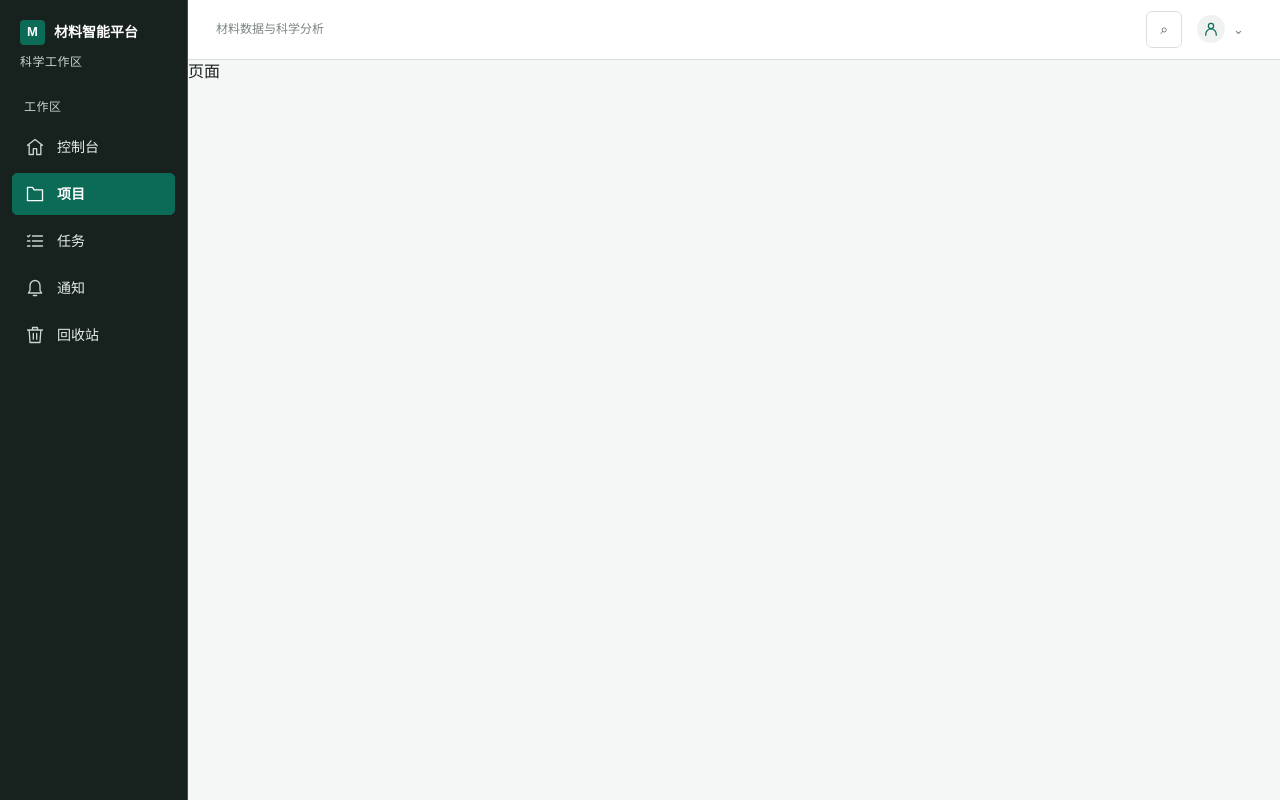
ends a stalled search after ten seconds, retries and ignores the late first response
The width and height of the screenshot is (1280, 800).
Click the button named "搜索科学工作". click: (1164, 29)
box: [1146, 11, 1182, 48]
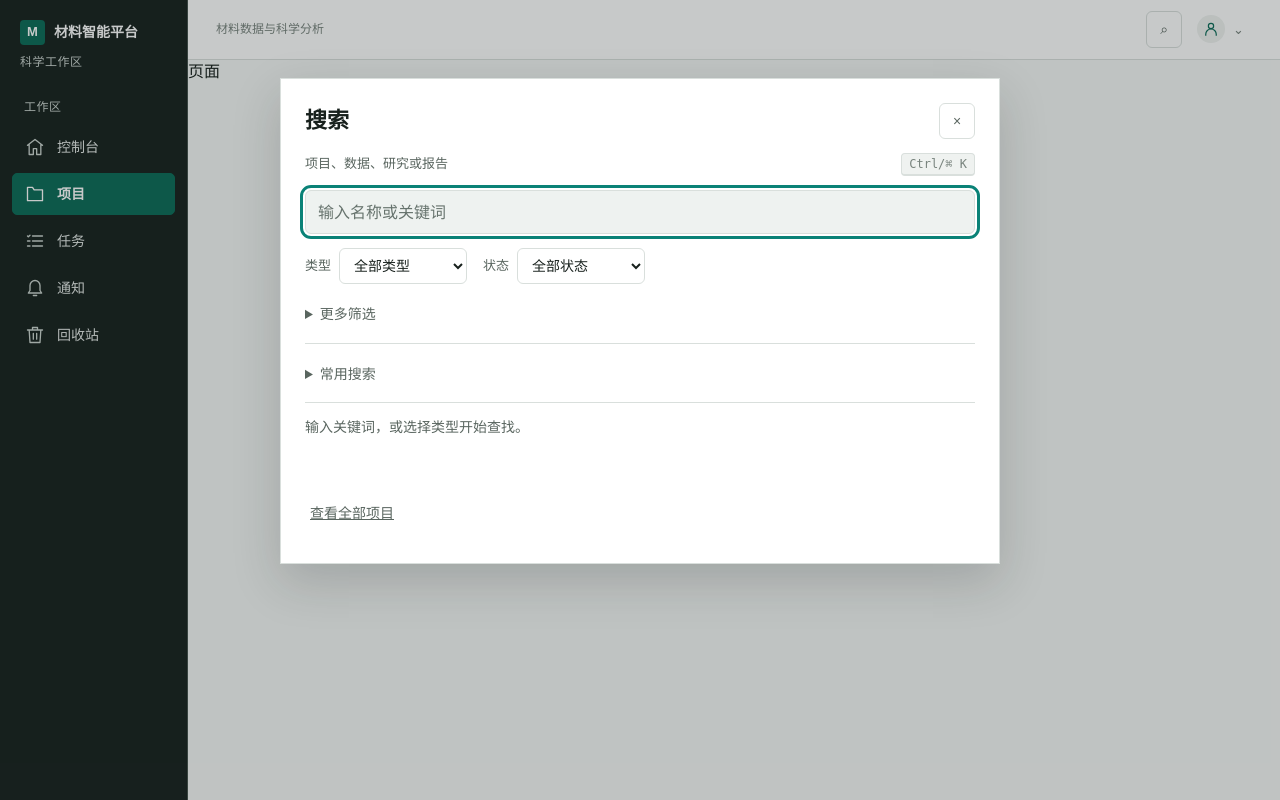
Type "材料" into the field labelled "项目、数据、研究或报告". click: (640, 212)
box: [305, 190, 975, 234]
Wait 10180 ms
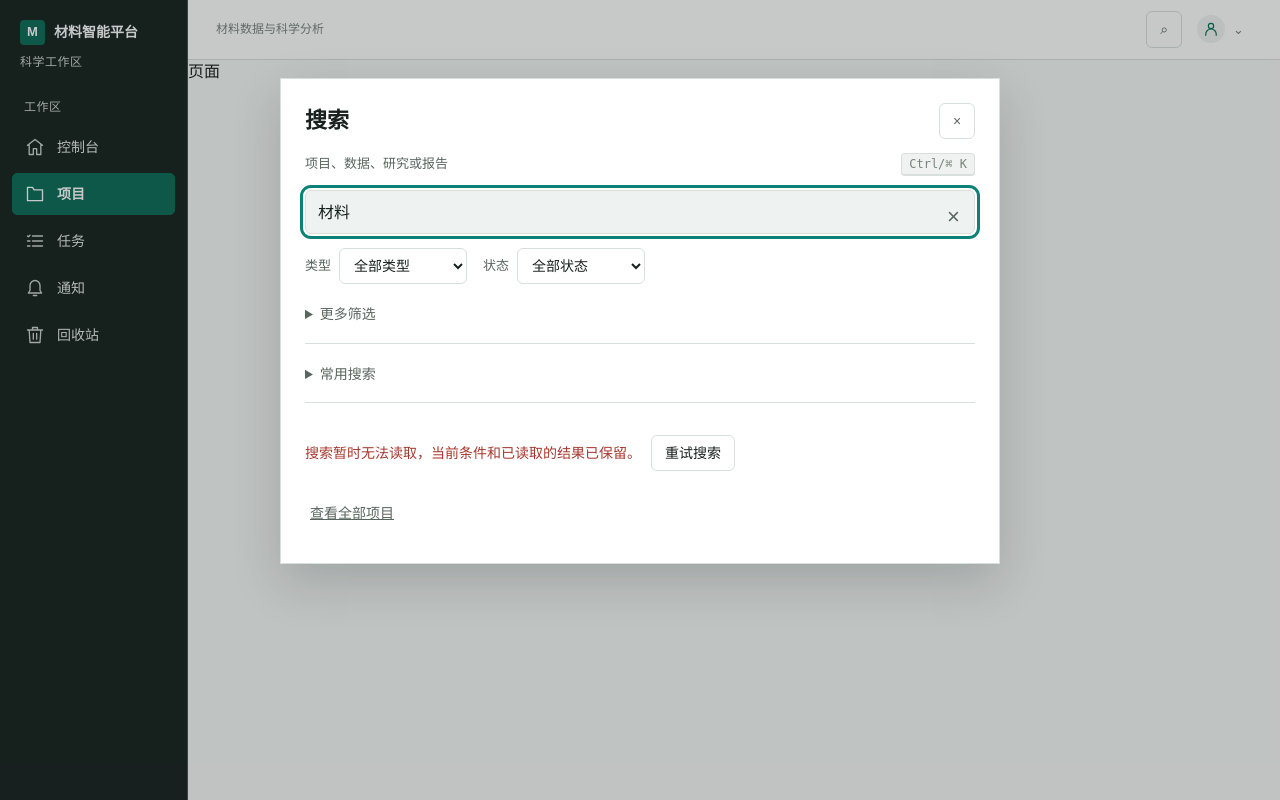
Result: the message shows "搜索暂时无法读取" at [305, 445, 641, 461]
Click the button "重试搜索". click: (693, 453)
box: [651, 435, 735, 471]
Wait 180 ms
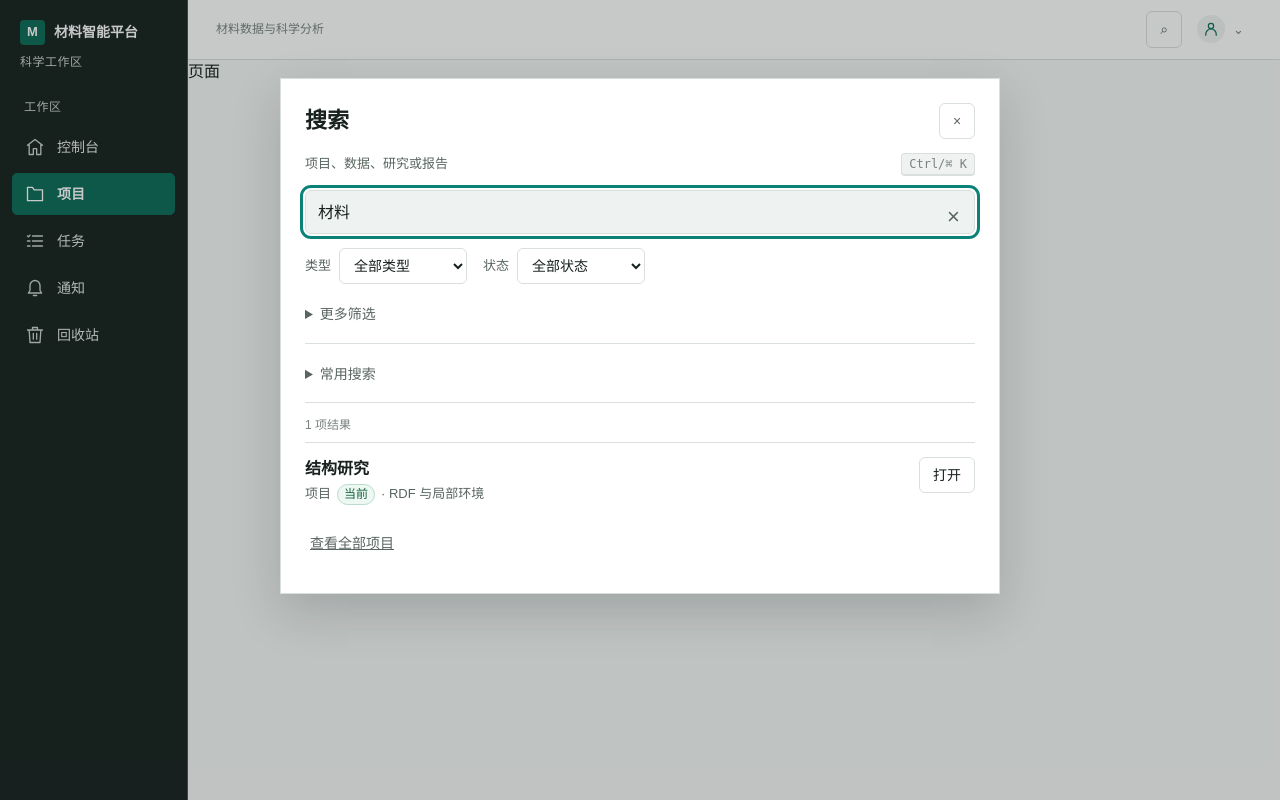
Result: the text "结构研究" is shown at [305, 460, 369, 477]
